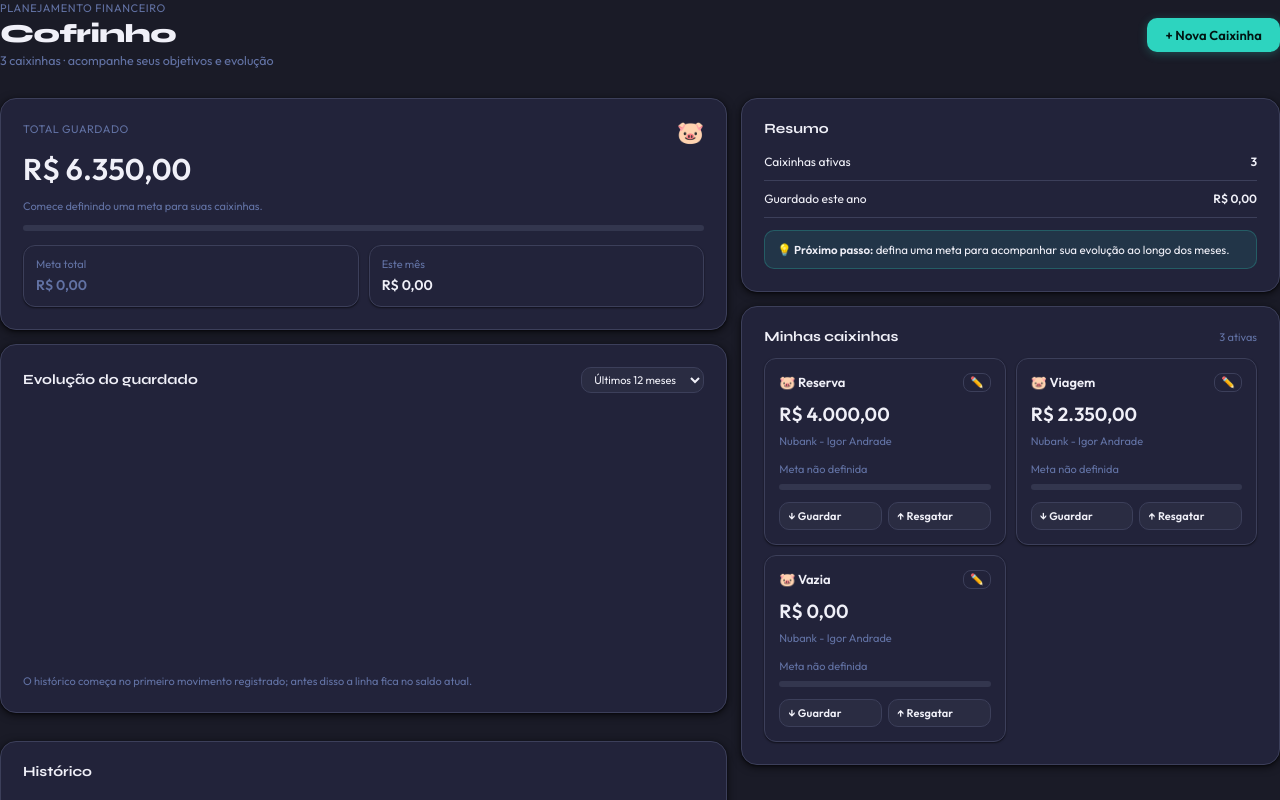
Test case: delete savings box › blocks submission without a reason and flags the field
Click the button titled "Renomear caixinha" next to "Reserva" at (977, 383), box [963,373,991,392]
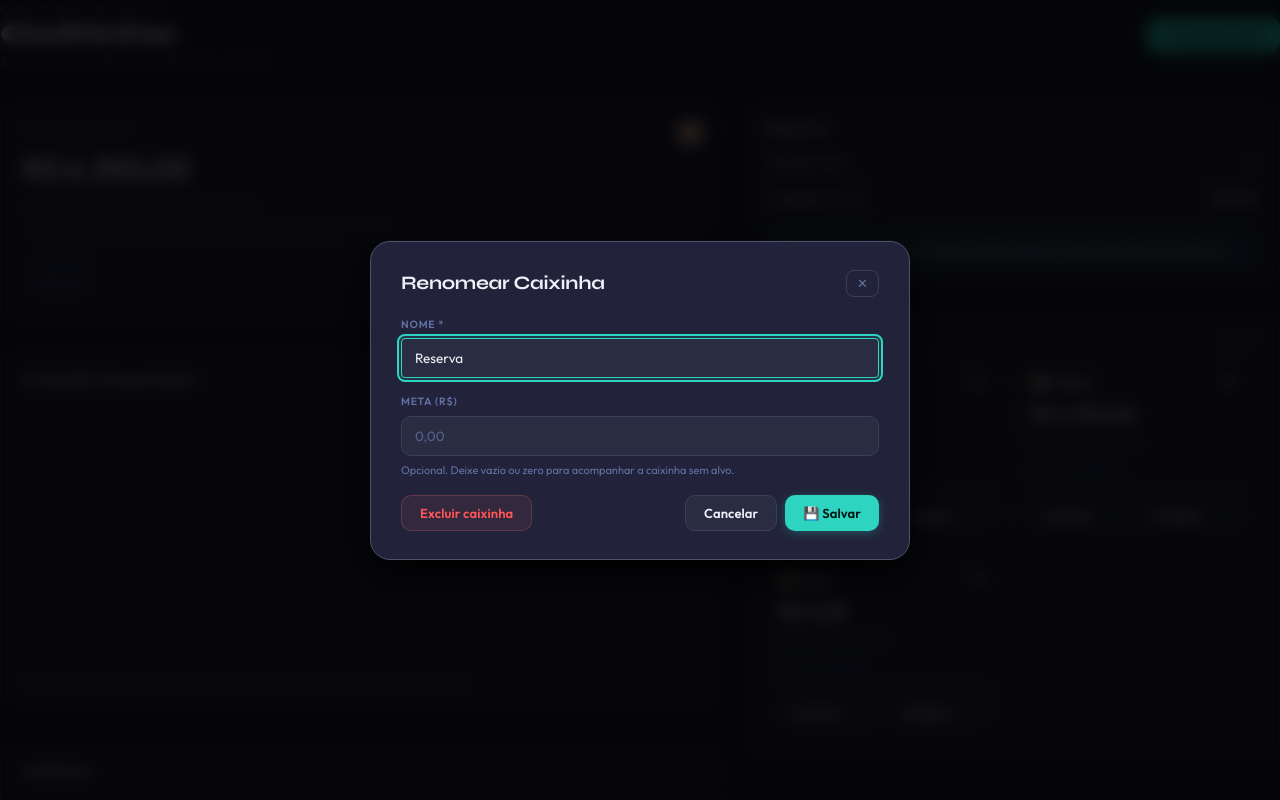
Click the button "Excluir caixinha" at (467, 512), box [401,494,532,530]
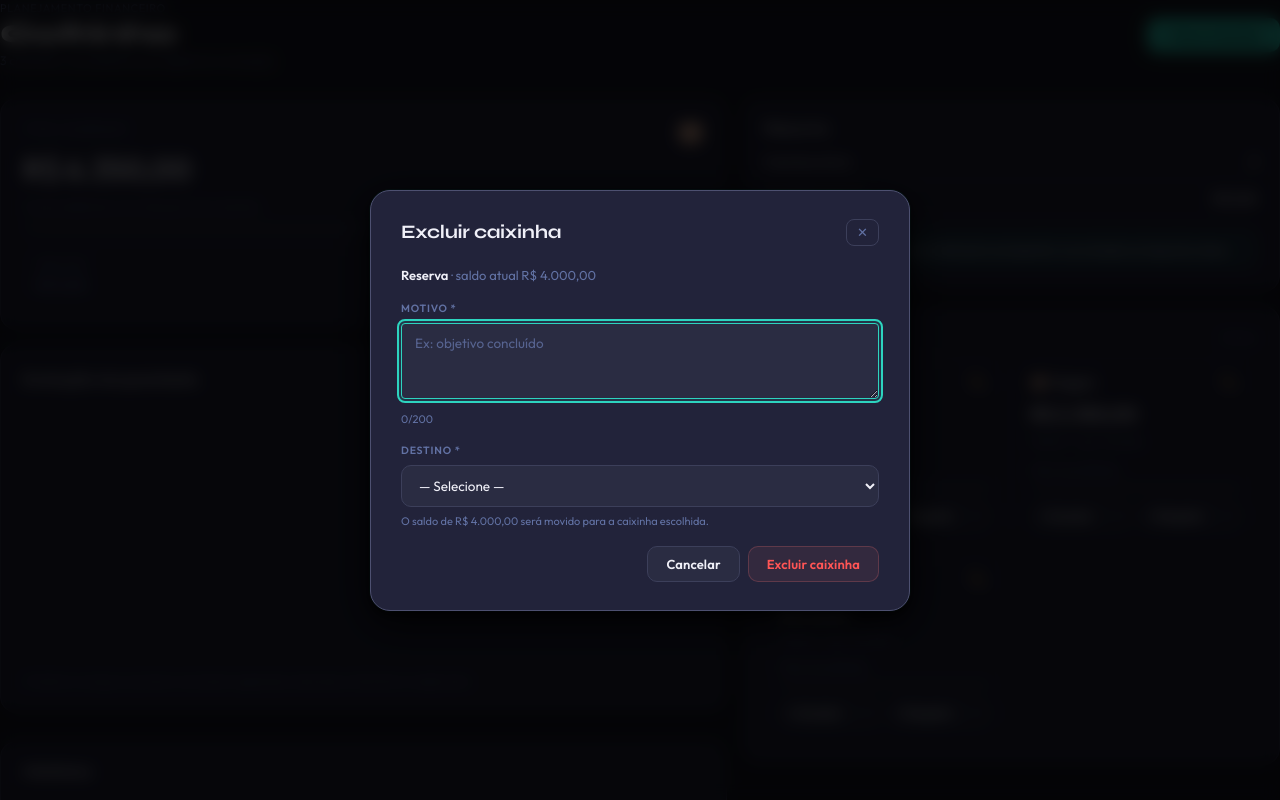
Select "Viagem · Nubank - Igor Andrade" in the dropdown labelled "Destino *" at (640, 486), box [401,465,879,507]
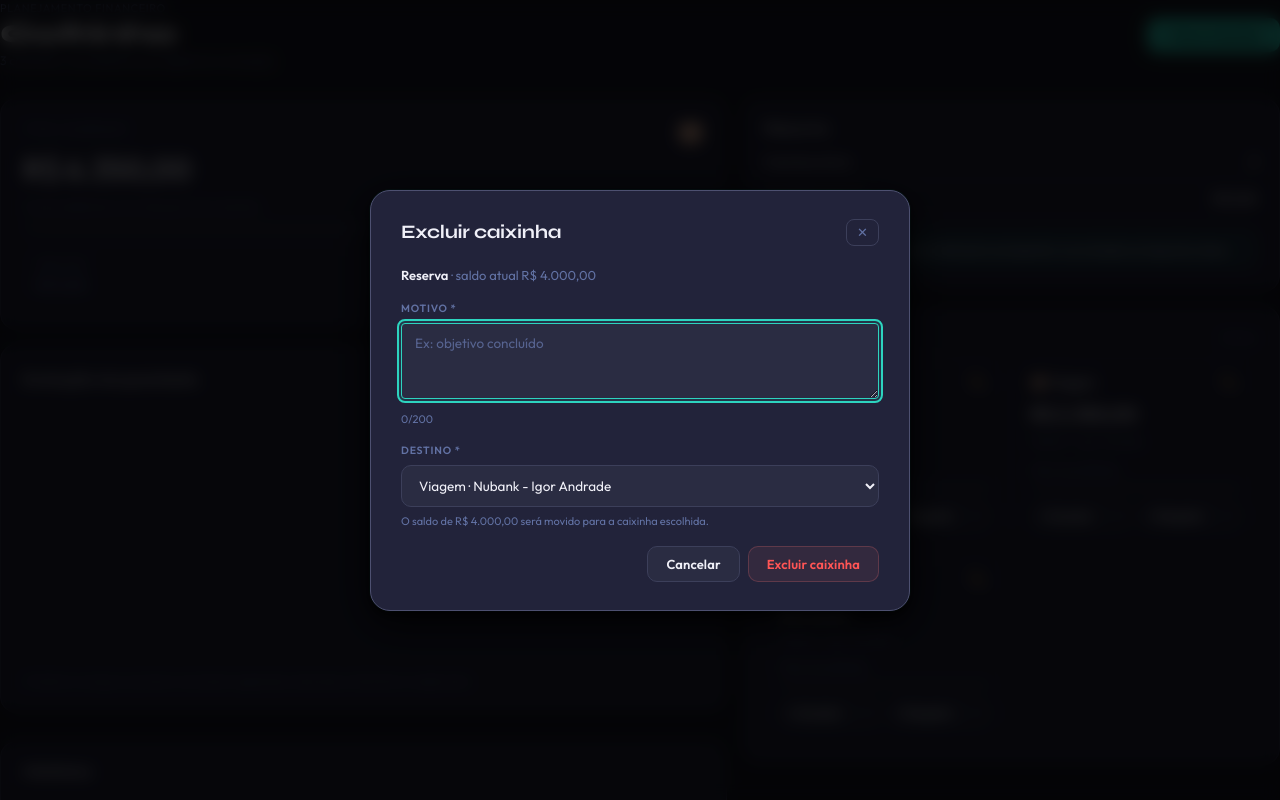
Click the submit button at (813, 564), box [748,546,879,582]
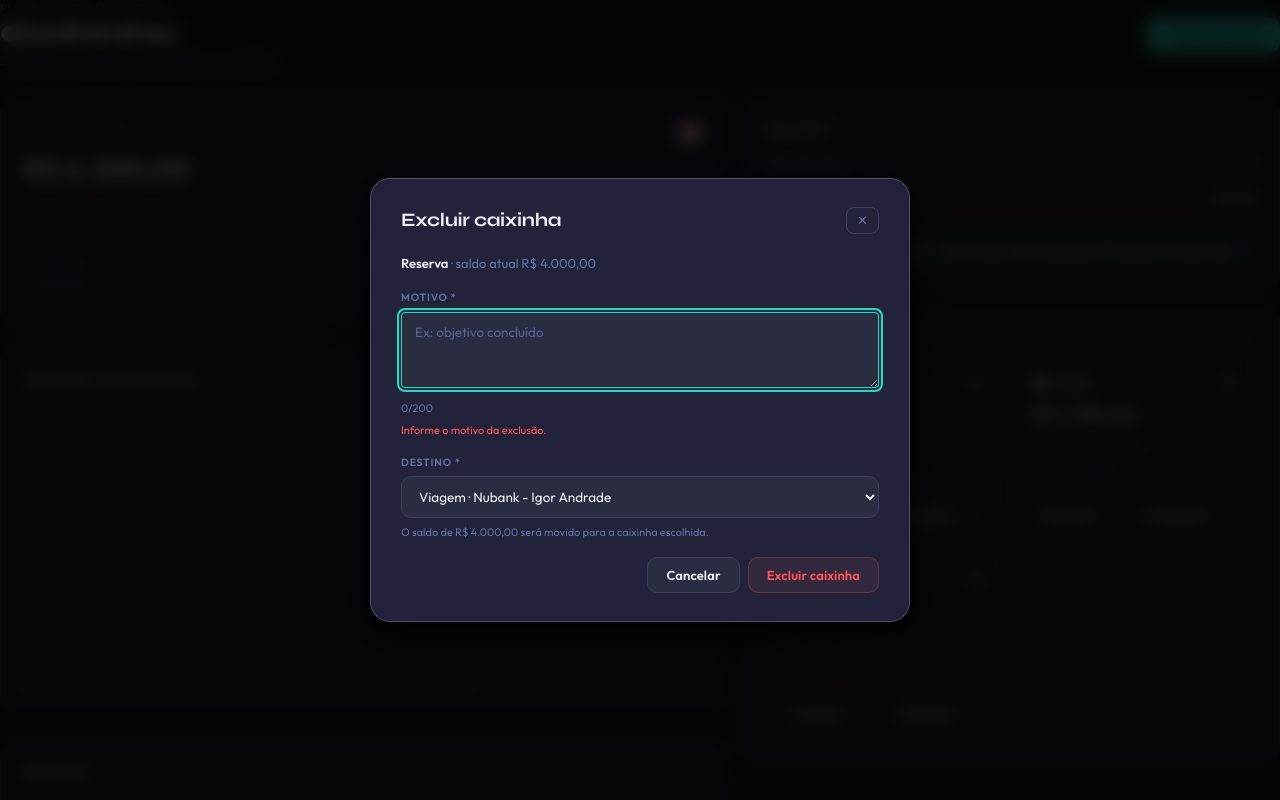
Expected: the message shows "motivo", [401,423,547,437]
